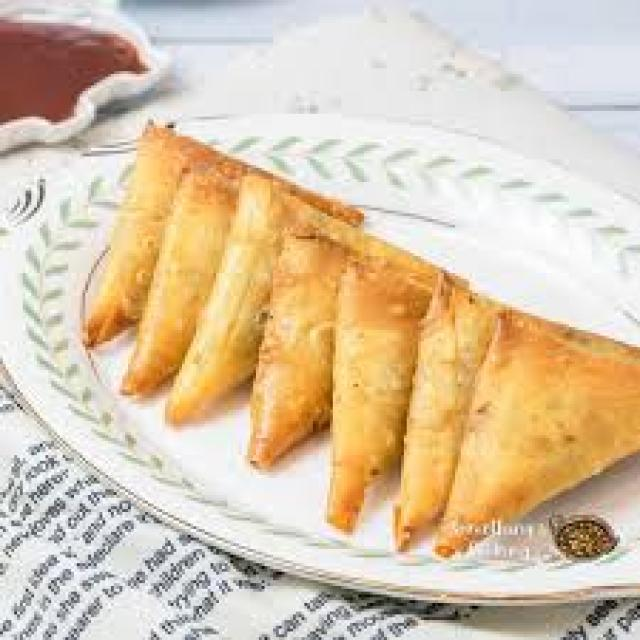SAMOSA: (165, 183, 456, 426), (83, 118, 357, 340), (435, 306, 637, 558), (318, 257, 433, 532), (398, 274, 504, 551), (124, 165, 245, 403), (249, 231, 351, 469)
